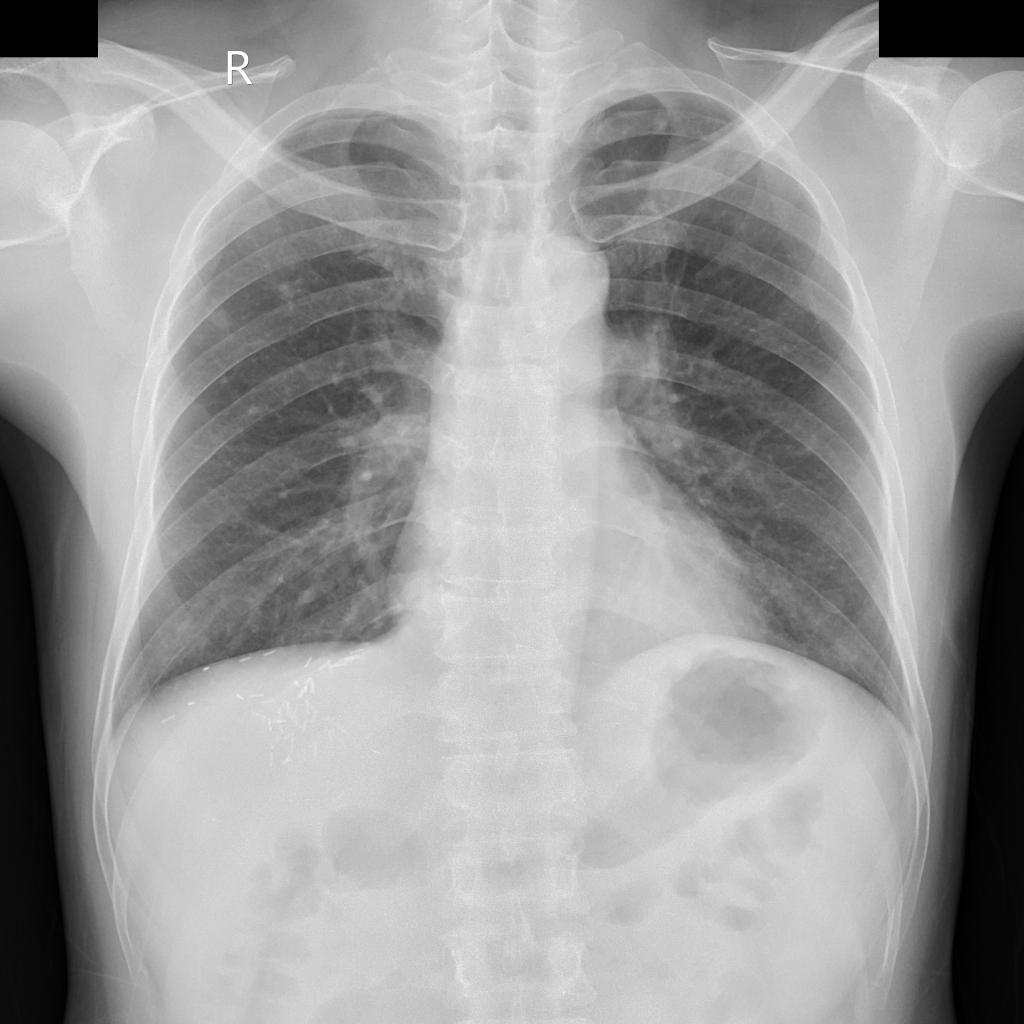Nodule: (814, 587, 852, 614), (211, 310, 233, 333), (278, 280, 300, 300), (654, 111, 669, 135)
